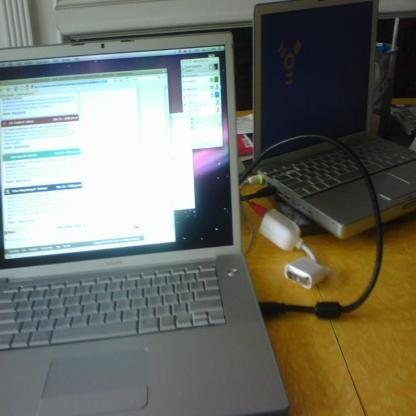board: (0, 32, 276, 416), (252, 0, 415, 239)
